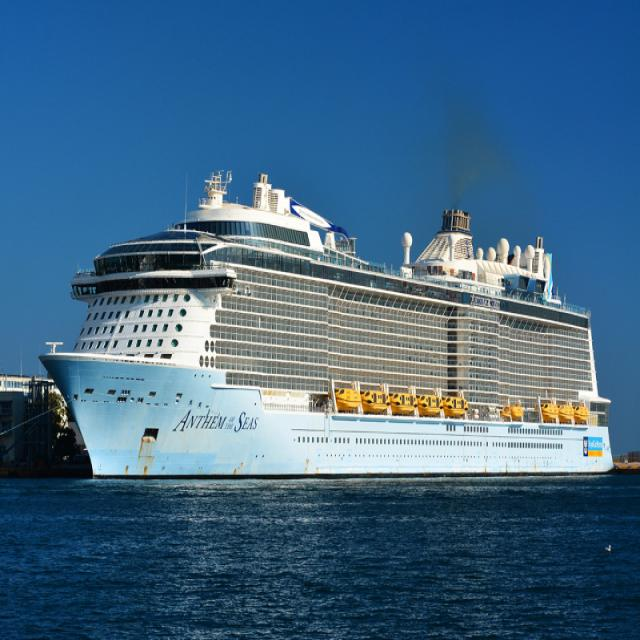cruises: (37, 167, 619, 487)
